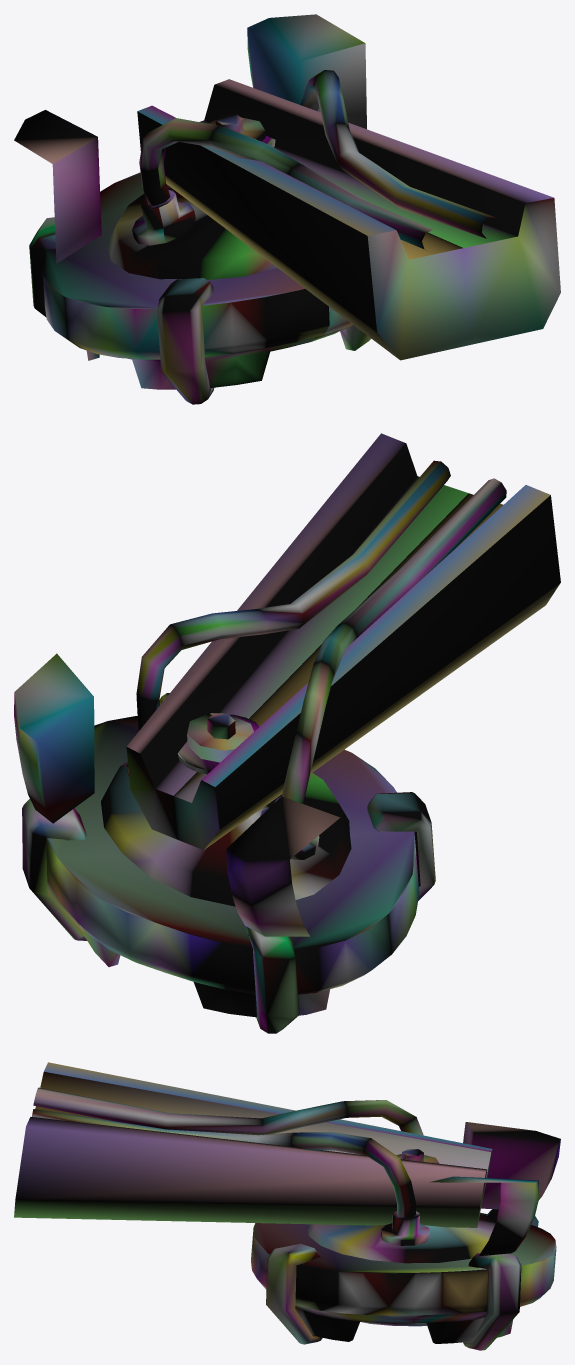
Rendered from ASE_GravCycle_Gib_SwingArm.gltf.
The picture shows the model from 3 angles, top to bottom: view 1: azimuth 30°, elevation 25°; view 2: azimuth 150°, elevation 25°; view 3: azimuth 270°, elevation 25°; orthographic projection. The views are drawn at different scales.
Visible parts, largest first — view 1: ASE_GravCycle_Gib_SwingArm; view 2: ASE_GravCycle_Gib_SwingArm; view 3: ASE_GravCycle_Gib_SwingArm.
Part boxes in pixels (left/top/right/bottom): ASE_GravCycle_Gib_SwingArm: left=14, top=14, right=560, bottom=404; ASE_GravCycle_Gib_SwingArm: left=14, top=433, right=560, bottom=1033; ASE_GravCycle_Gib_SwingArm: left=14, top=1062, right=560, bottom=1350.
Bounding box in the file's own units: 0.3192 × 0.2944 × 0.5748.
